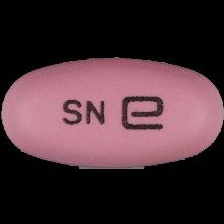24236-771: (0, 0, 224, 224)
